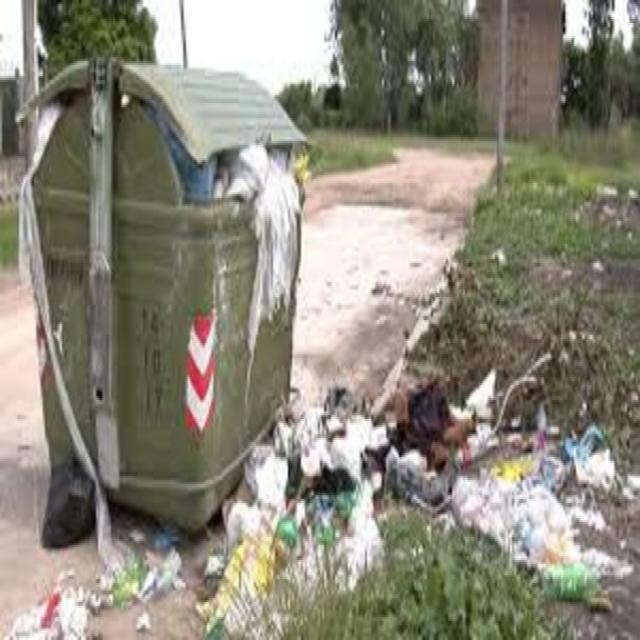garbage: (298, 359, 640, 590), (144, 116, 321, 328), (45, 528, 188, 638), (221, 396, 297, 597), (34, 448, 106, 545)
